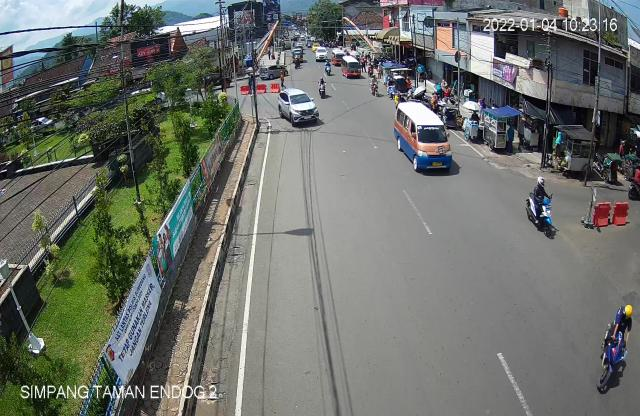Mobil: (392, 98, 457, 180), (277, 84, 323, 132)
Motor: (595, 303, 634, 397), (523, 174, 560, 241), (314, 74, 328, 100)
